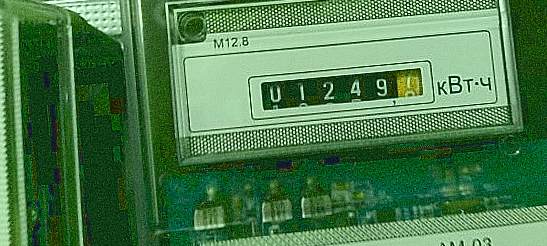0: (267, 82, 283, 103)
1: (294, 80, 308, 102)
2: (319, 78, 337, 101)
4: (348, 76, 363, 97)
7: (401, 68, 416, 89)
9: (374, 75, 389, 97)
screen: (244, 55, 439, 122)
